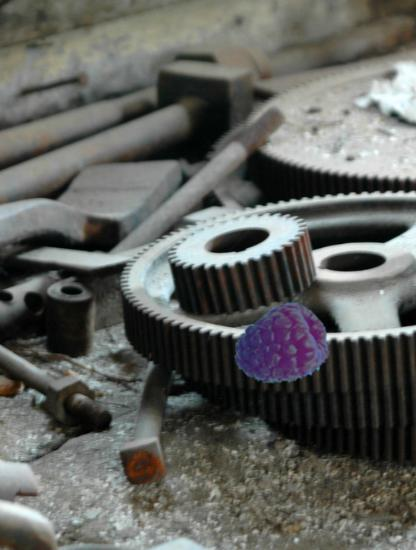Raspberry: (236, 301, 331, 396)
